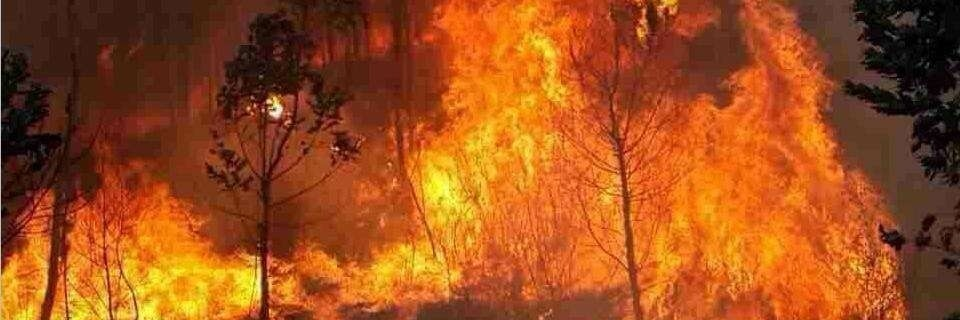fire: (108, 0, 913, 310)
